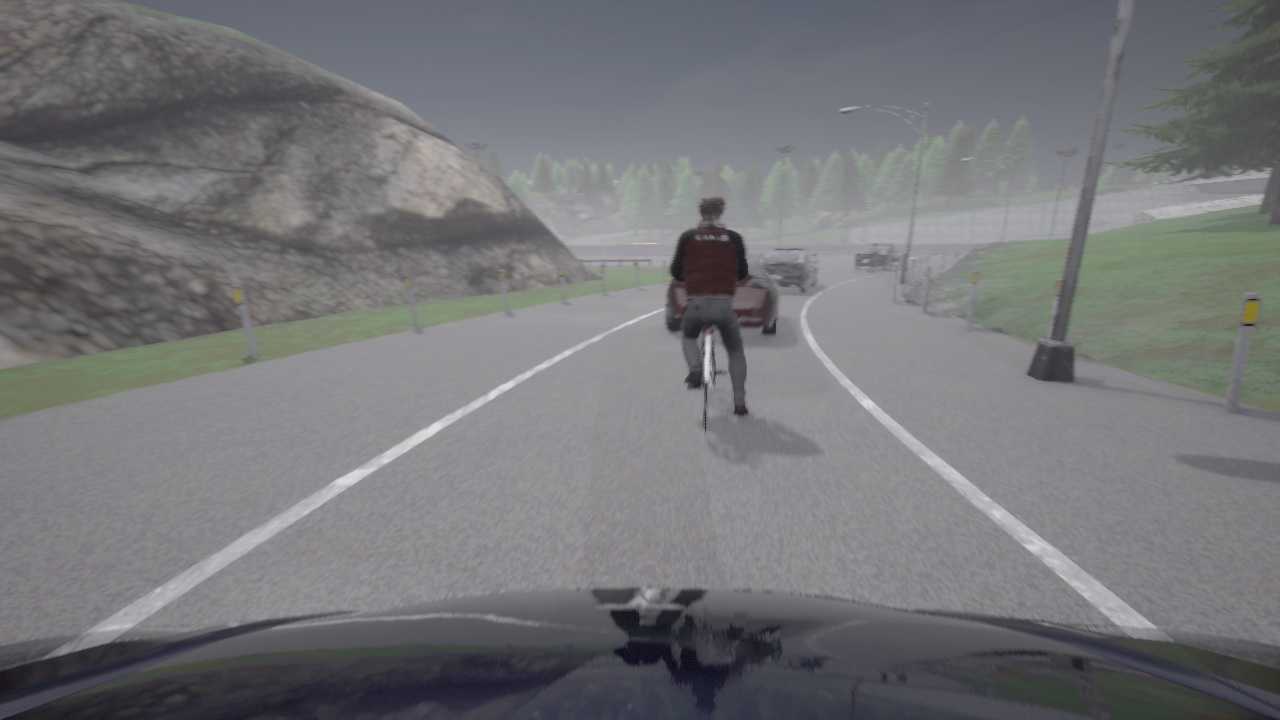cyclist: (0, 588, 1279, 719), (666, 251, 784, 335), (688, 325, 726, 435), (766, 247, 817, 292), (854, 243, 905, 270)
